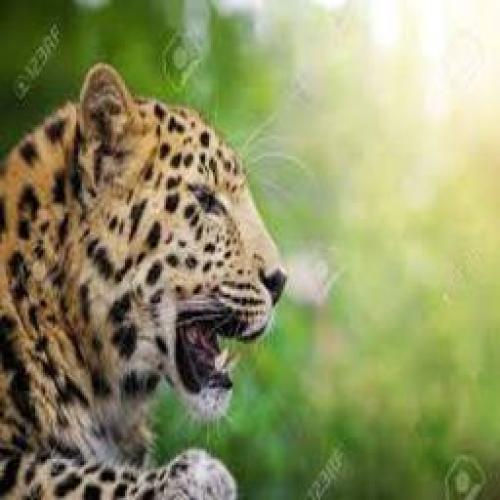amur_leopard-endangered: (0, 58, 287, 500)
